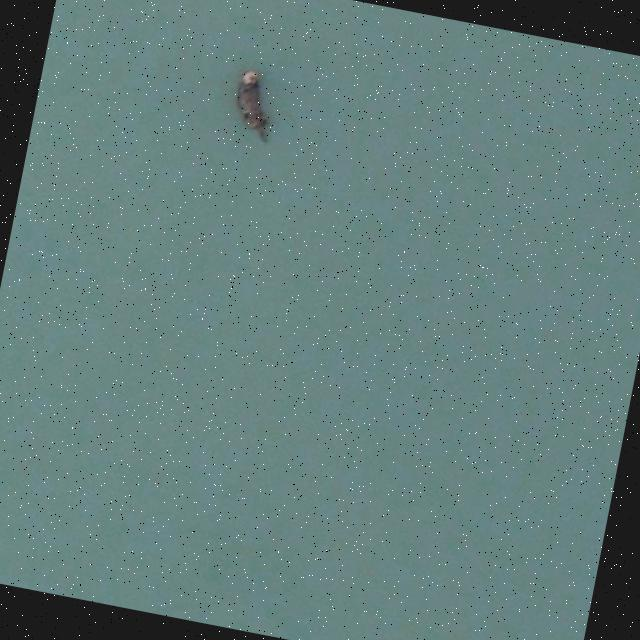seal: (228, 65, 273, 146)
